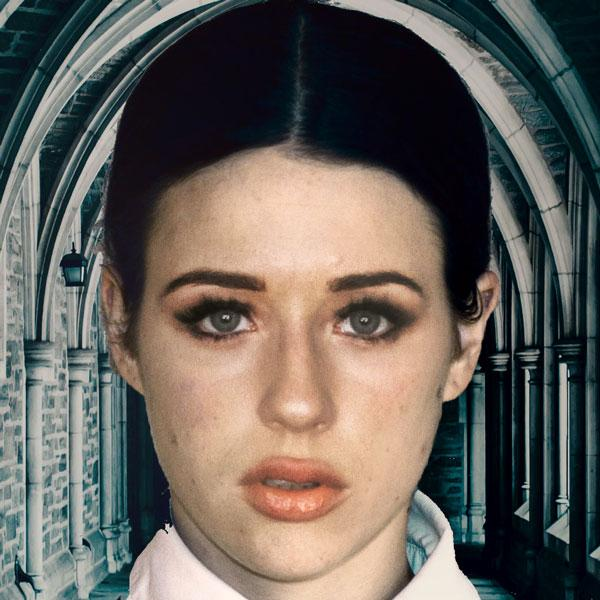Eyes: (168, 289, 274, 354), (316, 292, 415, 354)
